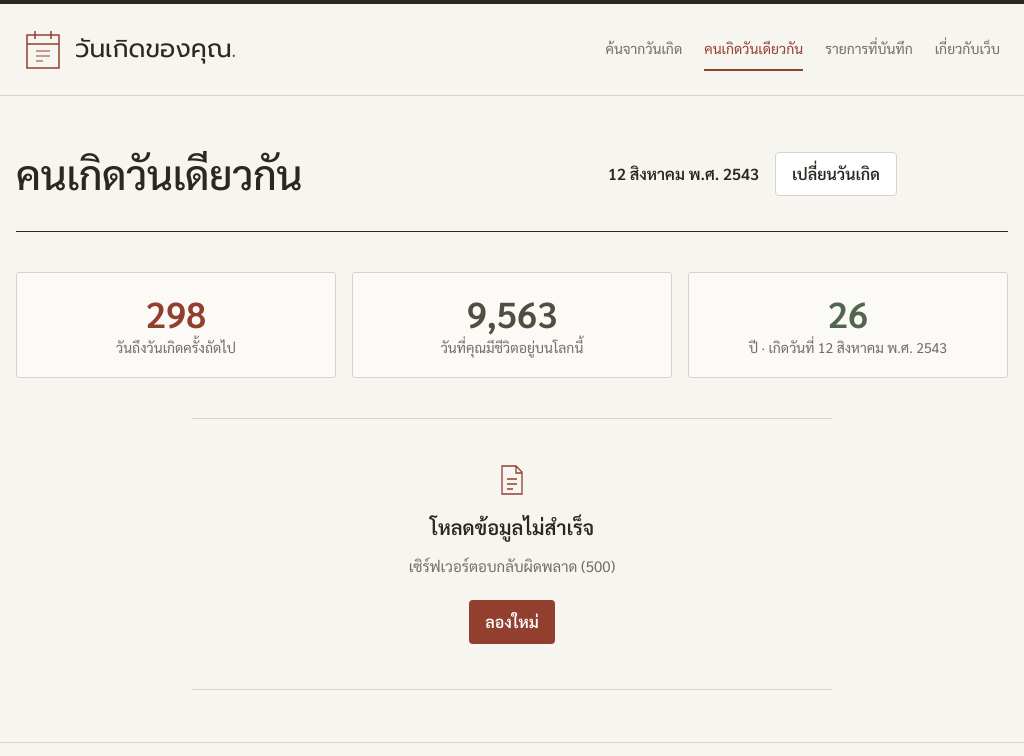
shared birthday and birthday twins › shows a retry button when portraits cannot be loaded
What coordinates should you click on to do the following:
click the button "ลองใหม่"
I would click on:
 (512, 622)
Its box is [469, 600, 555, 644].
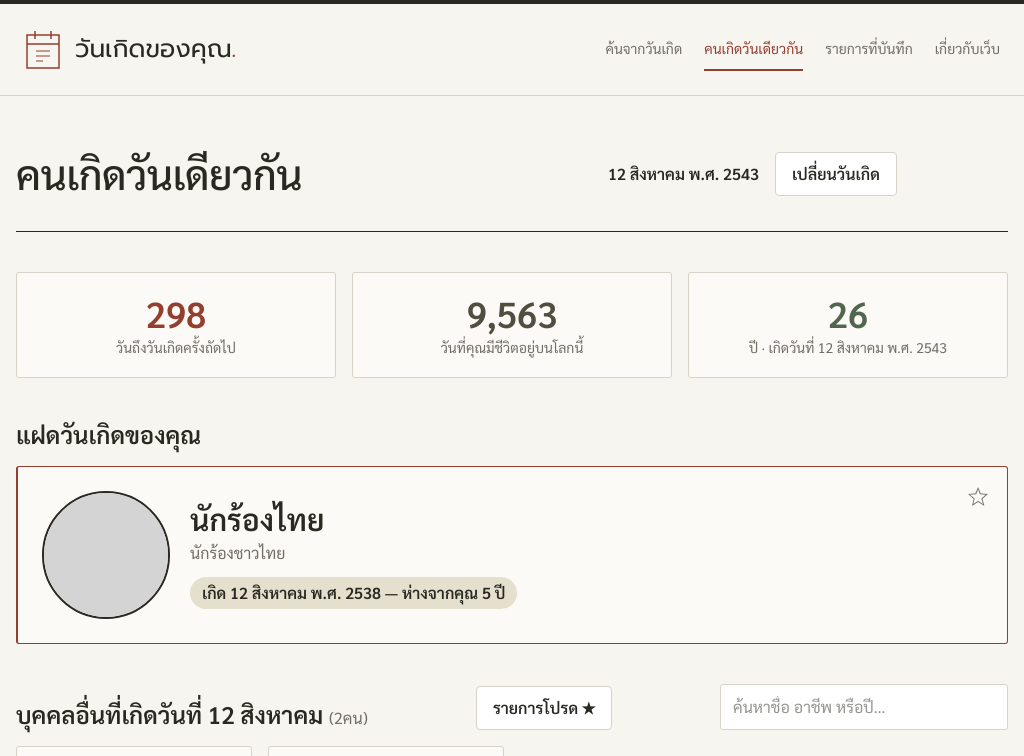
expect the text "นักร้องไทย" is shown: met, box [190, 499, 324, 538]
